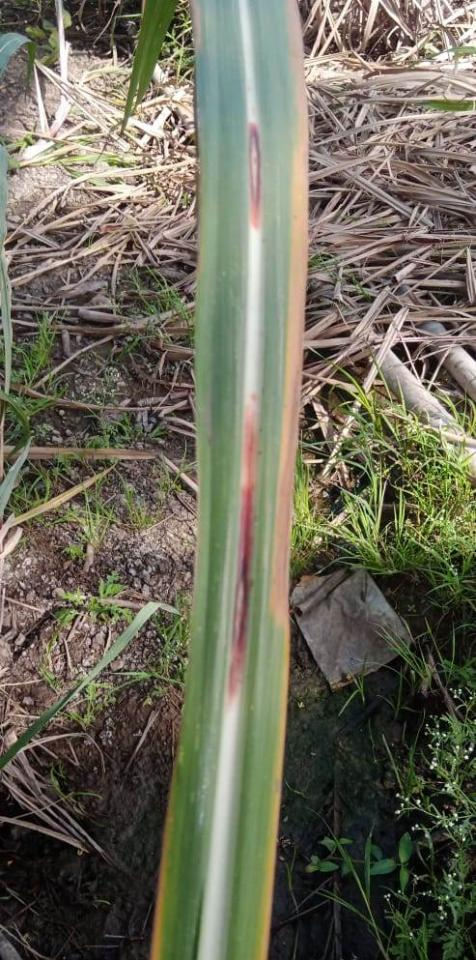RedRot: (227, 391, 264, 711), (250, 121, 262, 233)
